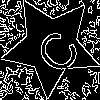C: (26, 21, 83, 78)
